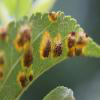Apple rust leaf: (1, 9, 98, 99)
